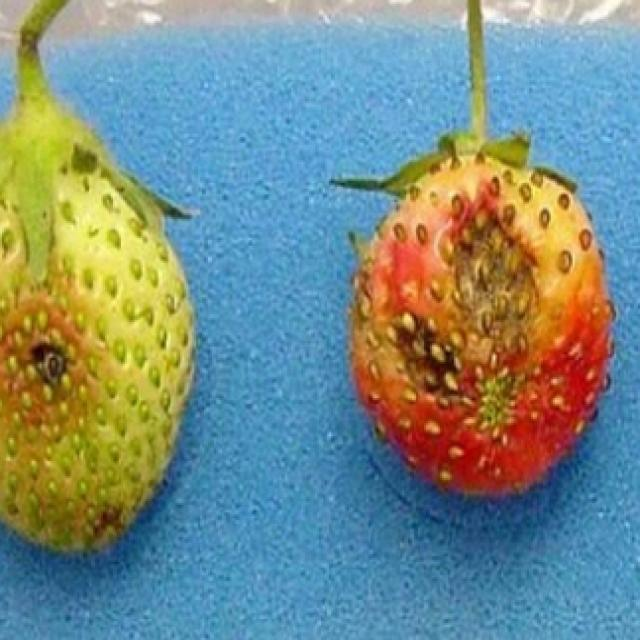Anthracnose Fruit Rot: (351, 167, 577, 449), (0, 288, 120, 437)
